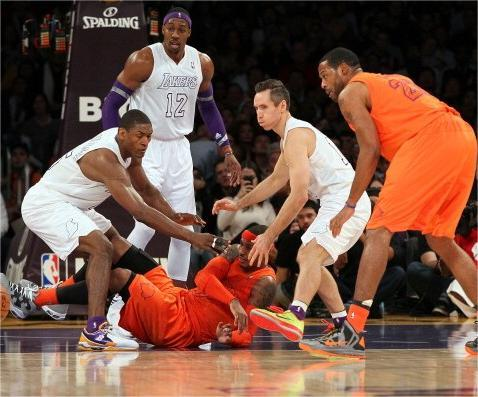bending: (320, 49, 478, 361), (21, 110, 169, 351), (247, 77, 369, 347)
down: (90, 217, 276, 355)
up: (110, 8, 224, 273)
